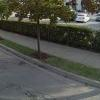Tree: (12, 0, 78, 28)
